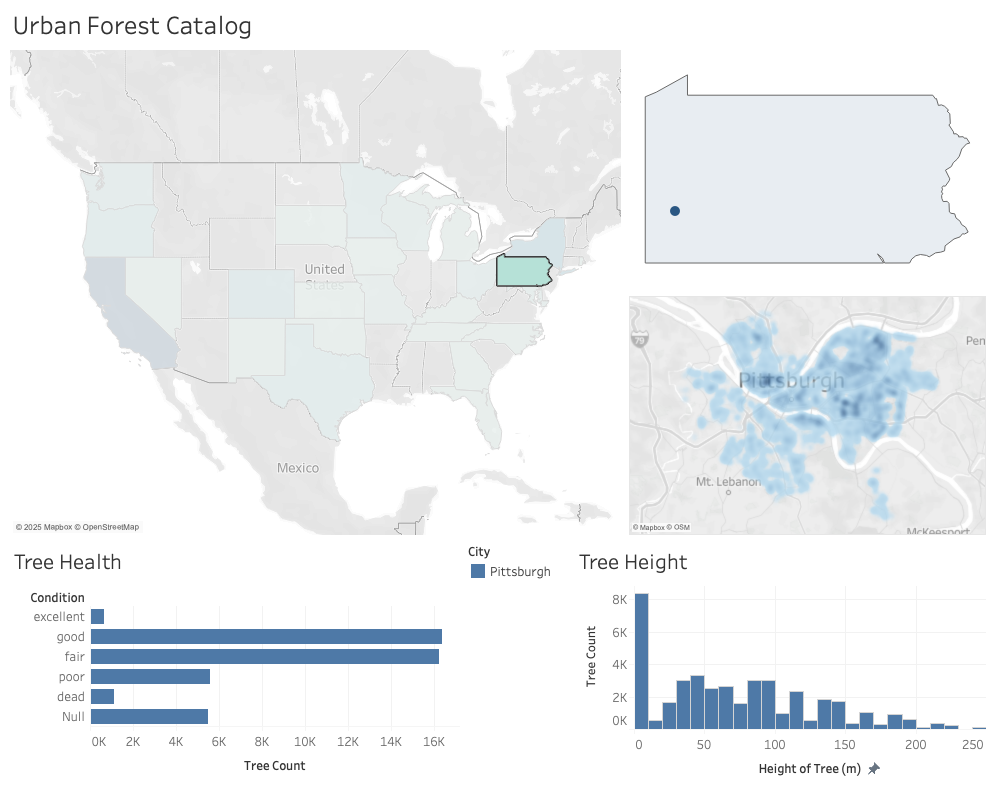

What the dashboard file says about the page in this screenshot:
{"tool":"tableau","page":{"name":"Urban Tree Catalog","canvas":[1000,800],"ordinal":1},"visuals":[{"type":"title","box":[8,8,984,42]},{"type":"worksheet","title":"State Map","mark":"Multipolygon","box":[8,50,619,493]},{"type":"worksheet","title":"Cities Map","mark":"Automatic","box":[627,50,365,246.5]},{"type":"worksheet","title":"City Map","mark":"Heatmap","rows":["latitude_coordinate"],"cols":["longitude_coordinate"],"box":[627,296.5,365,246.5]},{"type":"worksheet","title":"Tree Health","mark":"Automatic","rows":["condition"],"cols":["id"],"box":[8,543,458,249]},{"type":"legend","title":"Tree Health","param":"[federated.1ui72kf1e270yf10xwof80297bqx].[none:city:nk]","box":[466,543,107,249]},{"type":"worksheet","title":"Height Histogram","mark":"Automatic","rows":["height_M"],"cols":["height M (bin)"],"box":[573,543,419,249]}]}

Visuals, with their boxes in screenshot pixels (x1, y1, x2, y2), scaled from the page's 1000x800 canvas onto the 995x789 screenshot:
title: [left=8, top=8, right=987, bottom=49]
"State Map" worksheet (Multipolygon marks): [left=8, top=49, right=624, bottom=536]
"Cities Map" worksheet: [left=624, top=49, right=987, bottom=292]
"City Map" worksheet (Heatmap marks): [left=624, top=292, right=987, bottom=536]
"Tree Health" worksheet: [left=8, top=536, right=464, bottom=781]
"Tree Health" legend: [left=464, top=536, right=570, bottom=781]
"Height Histogram" worksheet: [left=570, top=536, right=987, bottom=781]
